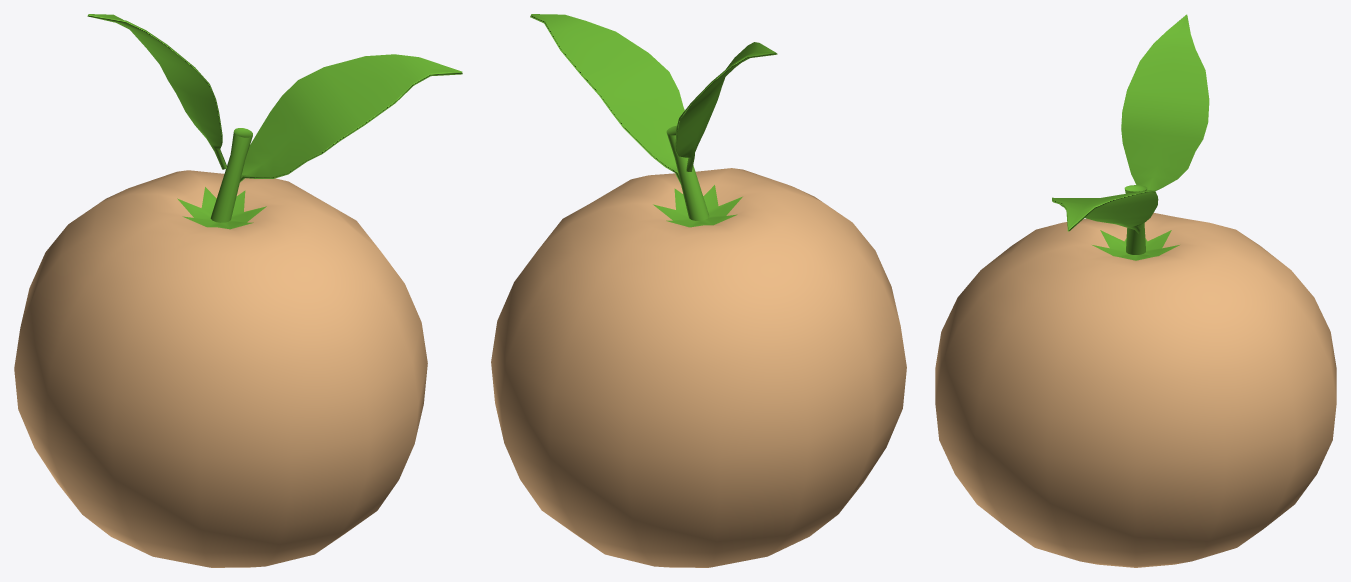
The model's file is seed.fbx.
3 views of the same model, side by side, from view 1: azimuth 30°, elevation 25°; view 2: azimuth 150°, elevation 25°; view 3: azimuth 270°, elevation 25° (orthographic). The views are drawn at different scales.
Parts seen in each view (by area): view 1: pSphere32, pasted__pCube14, pasted__pCube15; view 2: pSphere32, pasted__pCube14, pasted__pCube15; view 3: pSphere32, pasted__pCube15, pasted__pCube14.
Boxes of the visible parts, box(x1,y1,x2,y2) form: pSphere32: box(14, 128, 427, 567); pasted__pCube14: box(240, 54, 462, 182); pasted__pCube15: box(87, 14, 226, 169); pSphere32: box(491, 125, 906, 567); pasted__pCube14: box(530, 14, 684, 184); pasted__pCube15: box(675, 42, 777, 171); pSphere32: box(935, 185, 1336, 567); pasted__pCube15: box(1121, 14, 1209, 190); pasted__pCube14: box(1052, 190, 1158, 233).
Size of the model in its own units: 2.7 by 3.57 by 2.71.
